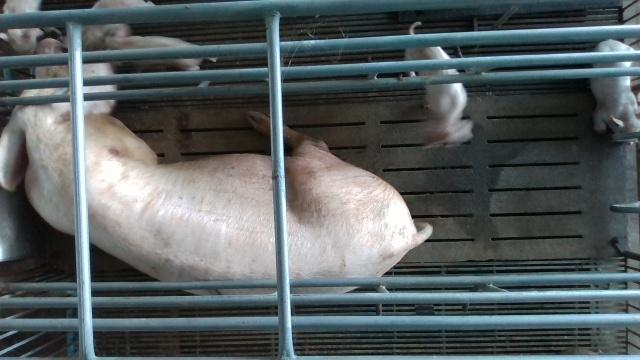piglet: (406, 20, 473, 149), (592, 39, 640, 146), (62, 0, 156, 51), (103, 35, 206, 71), (0, 0, 44, 55)
sow-sit: (2, 88, 434, 297)
